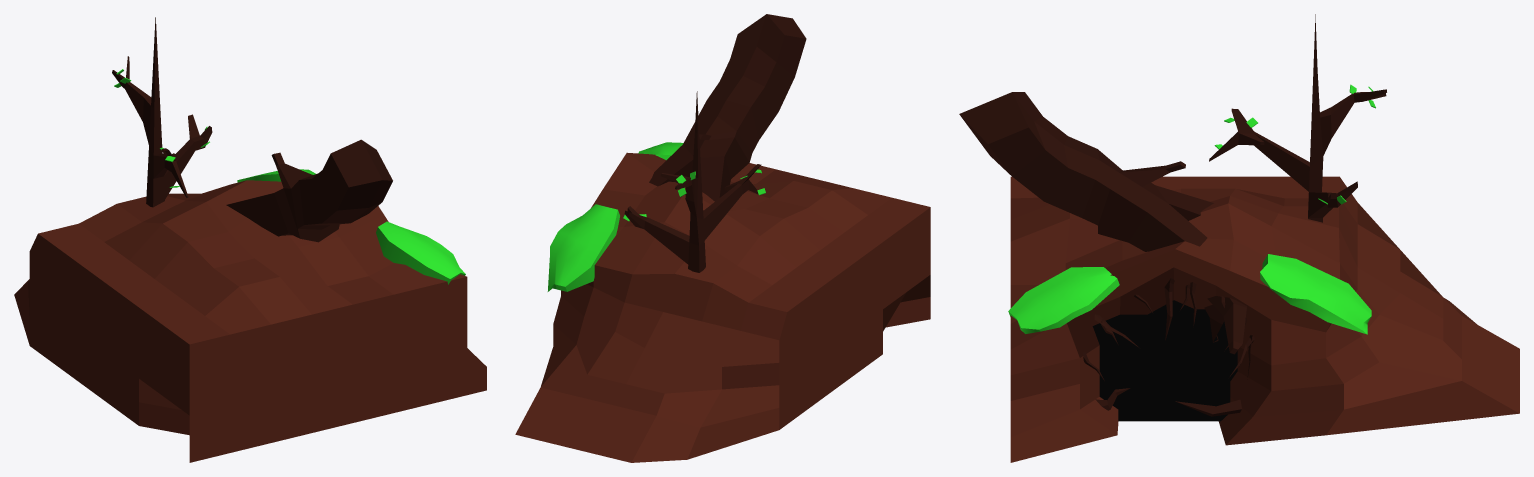
The model's file is Burrow.fbx.
The picture shows the model from 3 angles, left to right: view 1: azimuth 30°, elevation 25°; view 2: azimuth 150°, elevation 25°; view 3: azimuth 270°, elevation 25°; orthographic projection. The views are drawn at different scales.
Parts seen in each view (by area): view 1: Box001, Box012, Cone001, Box003; view 2: Box001, Box012, Cone001, Box002, Box003; view 3: Box001, Box012, Plane001, Cone001, Box002, Box003, Cone015.
Part boxes in pixels (x1,y1,x2,y2): Box001: (14, 180, 486, 462); Box012: (226, 139, 392, 242); Cone001: (112, 17, 212, 207); Box003: (376, 221, 465, 284); Box001: (515, 152, 930, 462); Box012: (649, 14, 806, 201); Cone001: (624, 91, 761, 272); Box002: (547, 204, 619, 291); Box003: (638, 142, 683, 160); Box001: (1010, 176, 1519, 462); Box012: (959, 92, 1246, 354); Plane001: (1092, 300, 1237, 421); Cone001: (1209, 14, 1386, 222); Box002: (1260, 254, 1371, 334); Box003: (1008, 267, 1119, 333); Cone015: (1175, 399, 1241, 416).
Bounding box in the file's own units: 85.72 × 89.36 × 129.
